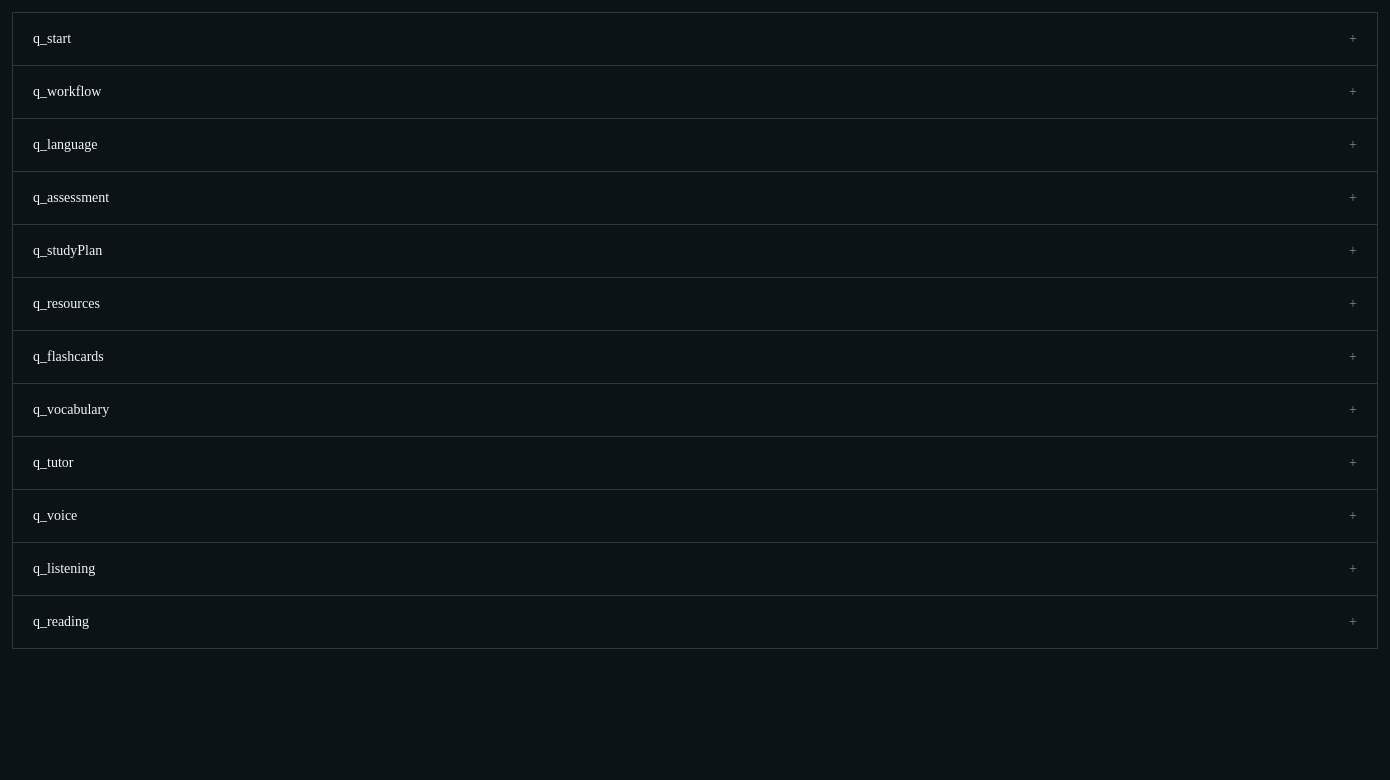
Test: LandingFAQ › switches directly between questions and renders plain-text answers
Step 1. Click the button "q_language +" → click(65, 144), box [13,119,1377,171]
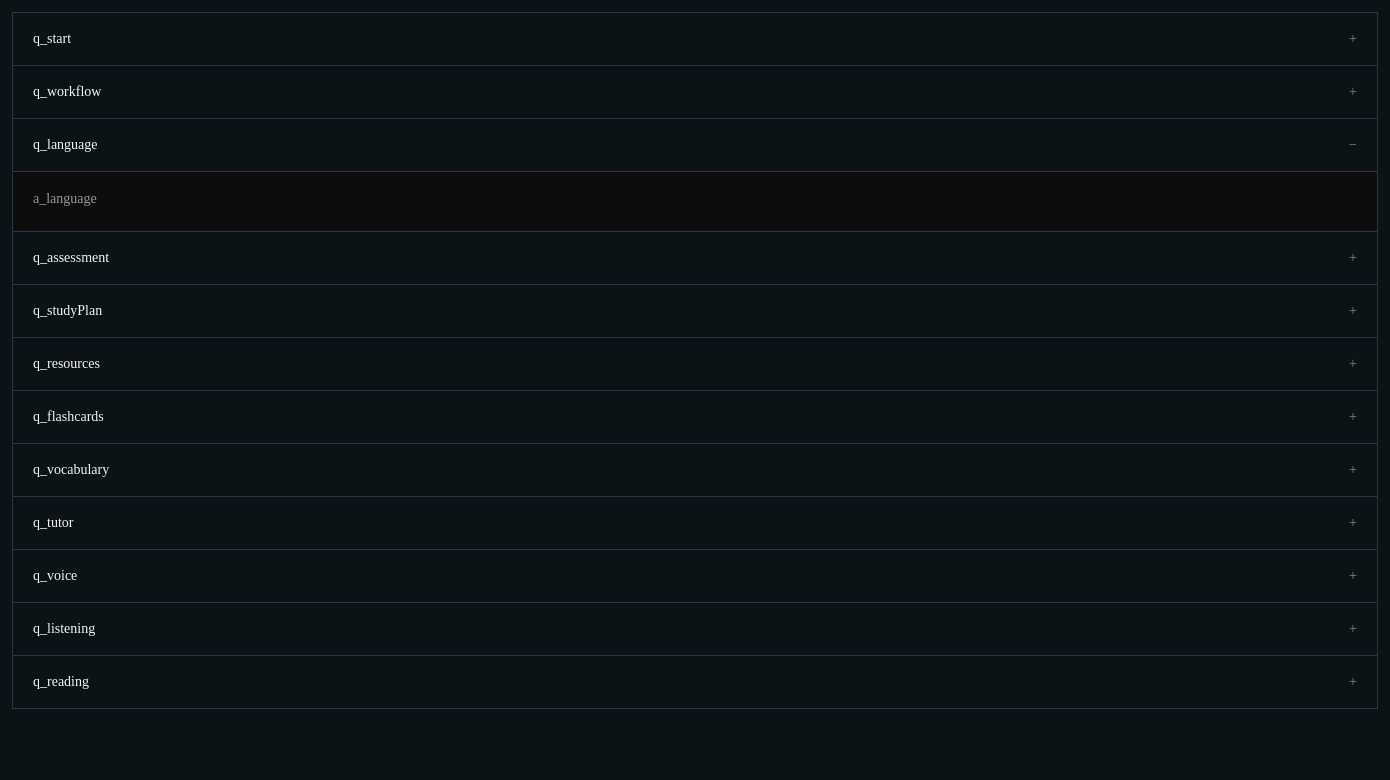
Check: the text "a_language" is shown, box [33,191,97,206]
Step 2. Click the button "q_assessment +" → click(71, 257), box [13,232,1377,284]
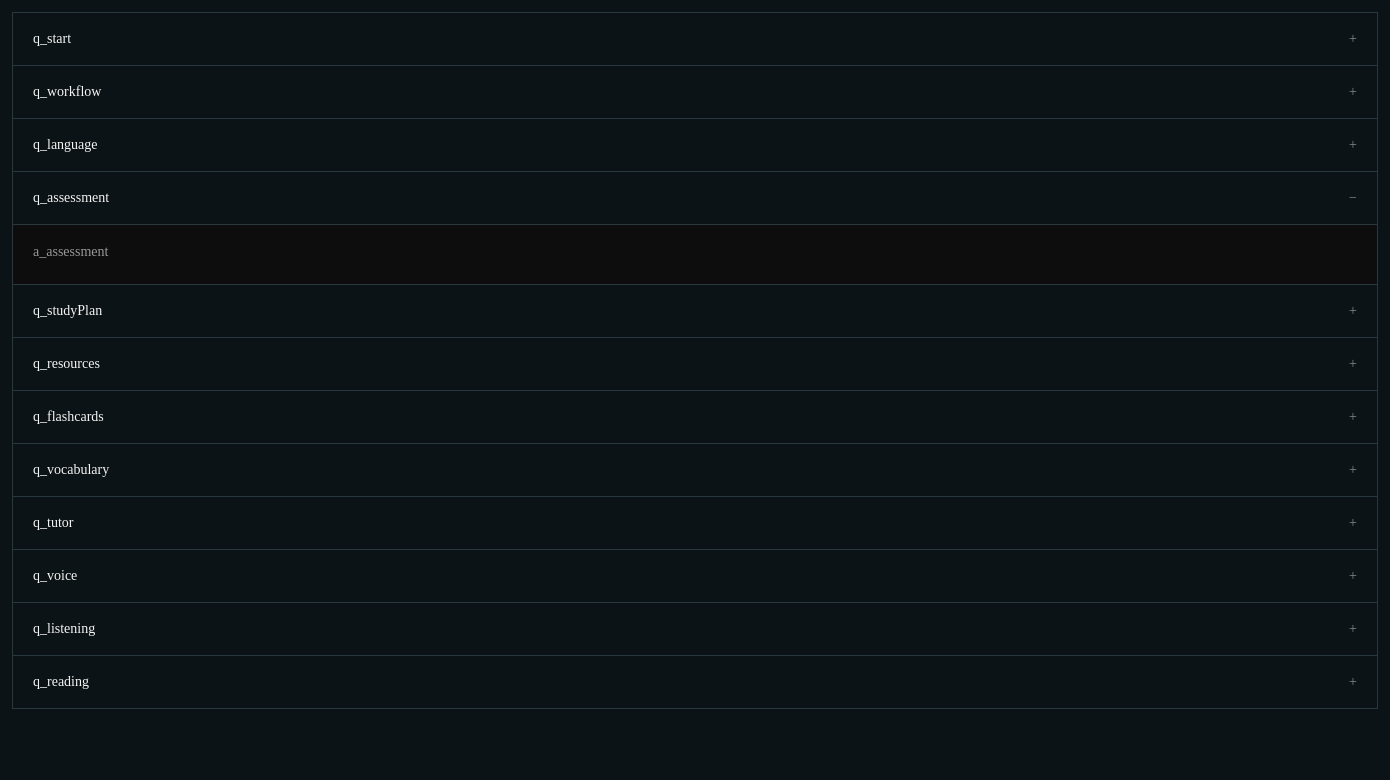
Check: the text "a_language" is gone
Check: the text "a_assessment" is shown, box [33,244,108,259]
